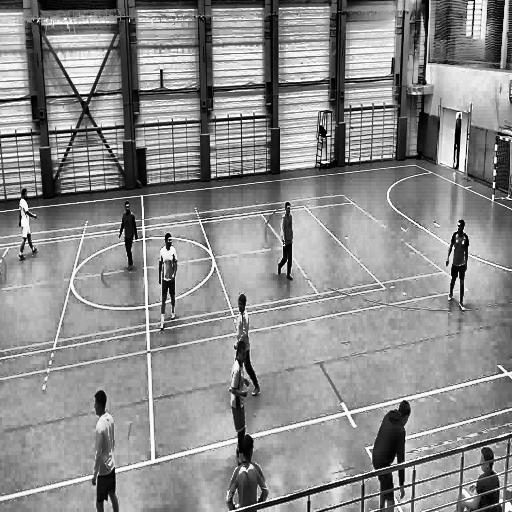player: (372, 398, 410, 510), (91, 389, 120, 512), (227, 434, 268, 507), (233, 293, 260, 396), (446, 217, 469, 314), (157, 231, 179, 331), (230, 344, 248, 466), (18, 188, 40, 262), (118, 198, 139, 272), (277, 200, 294, 283)
